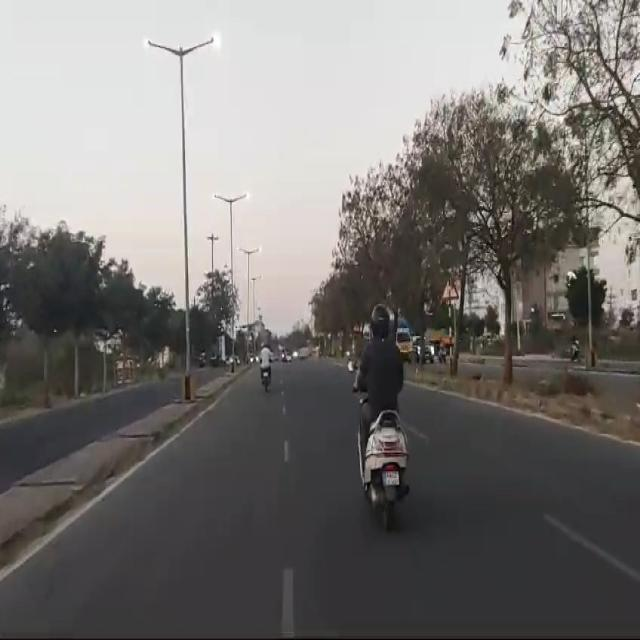bien_cam: (440, 274, 460, 300)
